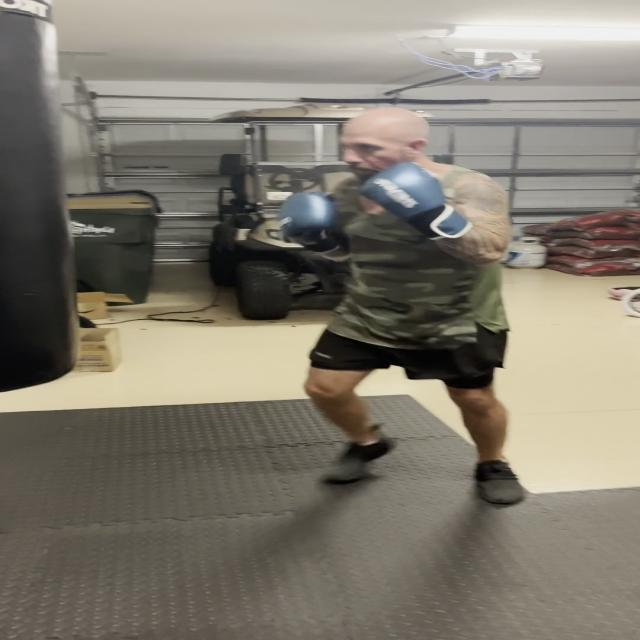bag: (0, 0, 65, 390)
no punch: (269, 106, 509, 268)
